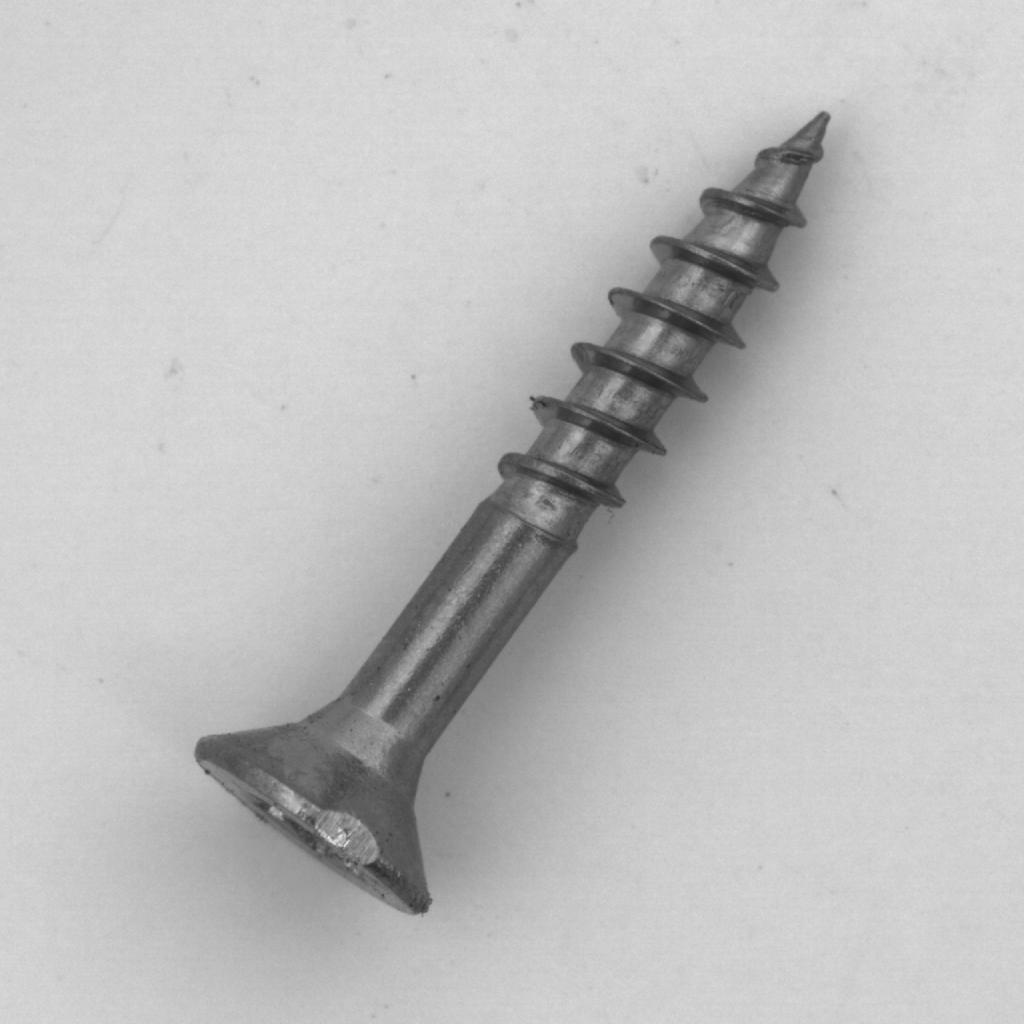scratch_head: (166, 83, 879, 949)
